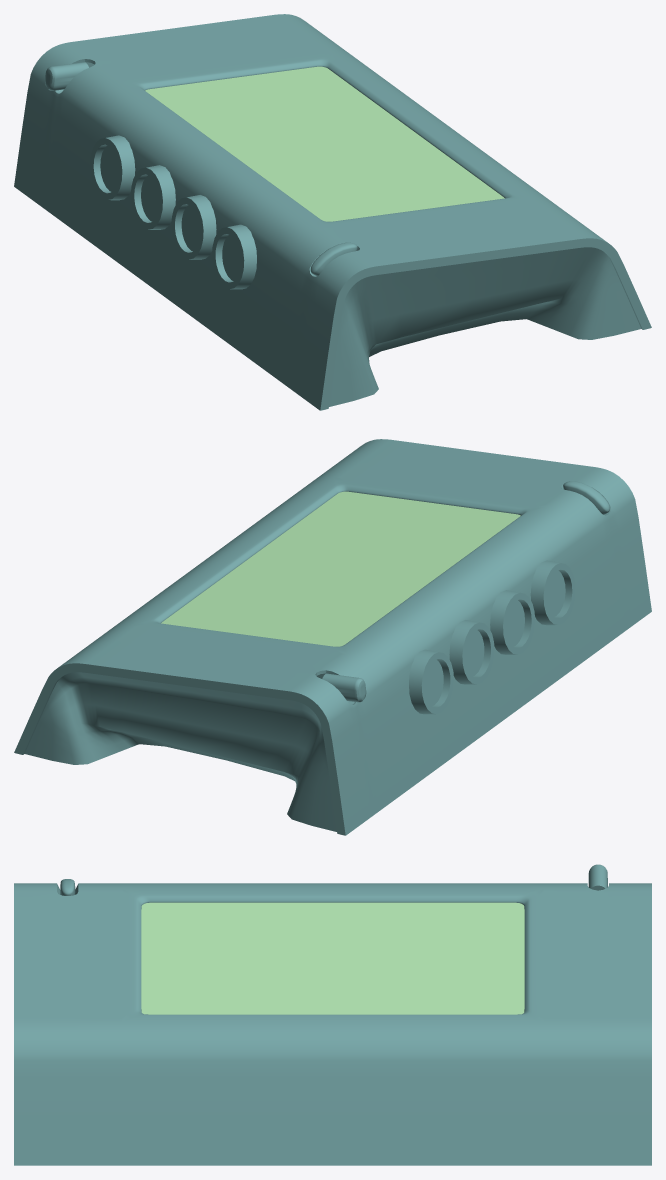
File: LP_DataLogger_01.fbx
3 views of the same model, one above another, from view 1: azimuth 30°, elevation 25°; view 2: azimuth 150°, elevation 25°; view 3: azimuth 270°, elevation 25° (orthographic). The views are drawn at different scales.
Parts seen in each view (by area): view 1: polySurface215; view 2: polySurface215; view 3: polySurface215.
Boxes of the visible parts, <box> form: polySurface215: <box>14,14,651,410</box>; polySurface215: <box>14,439,651,835</box>; polySurface215: <box>14,864,651,1165</box>.
Size of the model in its own units: 10.09 by 3.88 by 15.94.
